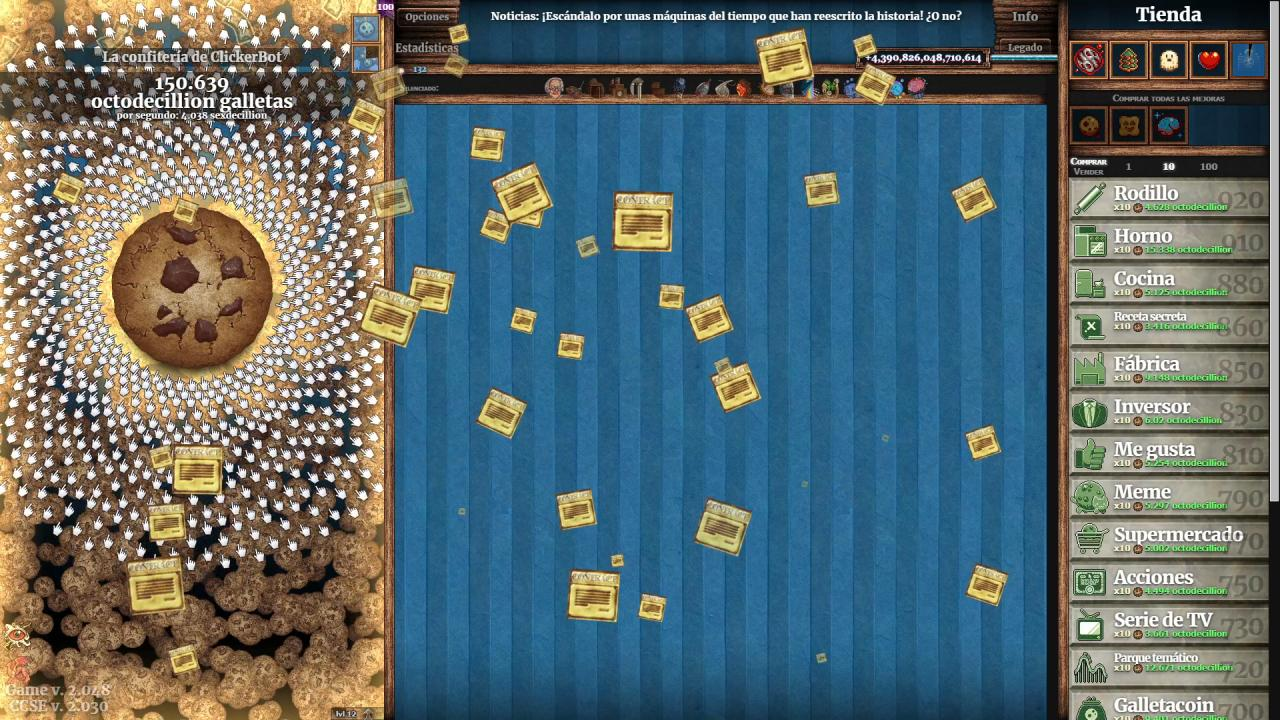GoldenCartridge: (358, 282, 424, 350), (490, 159, 554, 227), (126, 554, 188, 618), (613, 191, 676, 253), (754, 26, 816, 88), (692, 497, 754, 558), (566, 567, 622, 625), (474, 385, 530, 441), (708, 360, 764, 415), (171, 443, 225, 496), (406, 264, 458, 317), (685, 293, 735, 344), (949, 175, 999, 224), (554, 486, 600, 533), (370, 175, 416, 221), (964, 563, 1011, 607), (852, 62, 898, 106), (346, 96, 388, 137), (802, 169, 842, 210), (147, 502, 187, 542), (369, 64, 409, 104), (964, 424, 1004, 463), (468, 126, 508, 164), (478, 207, 516, 245), (51, 170, 87, 207), (166, 642, 202, 677), (637, 592, 668, 624), (171, 197, 201, 227), (556, 331, 586, 361), (509, 306, 538, 335), (658, 283, 686, 311), (443, 51, 470, 79), (149, 443, 175, 471), (574, 234, 602, 260), (852, 33, 878, 59), (447, 23, 471, 45), (712, 356, 736, 378), (610, 553, 626, 568), (816, 652, 828, 665)
